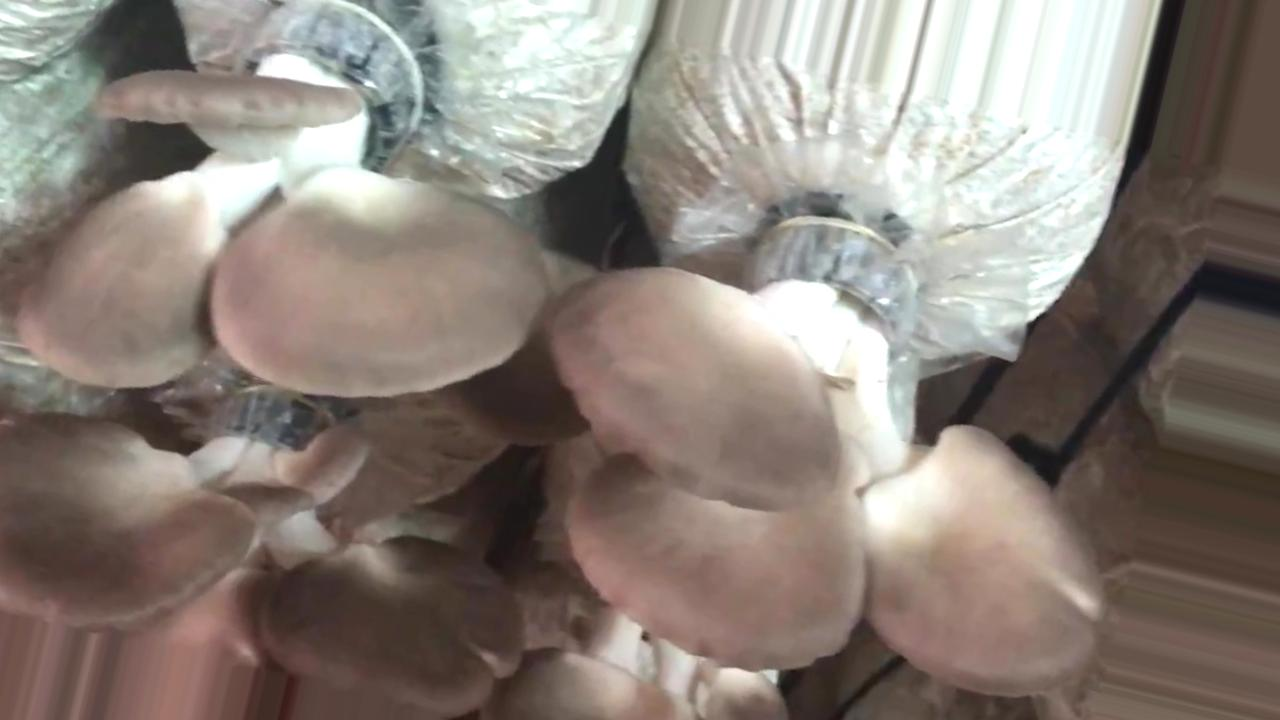nam: (557, 216, 1105, 695), (16, 1, 548, 402), (1, 385, 530, 720)
